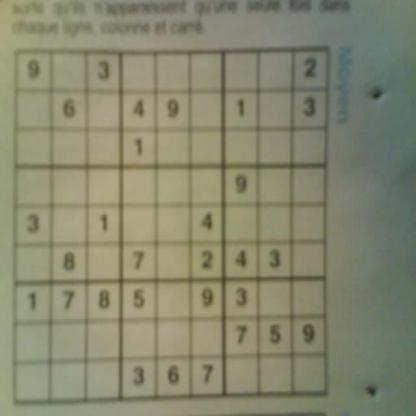sudoku: (10, 41, 335, 410)
